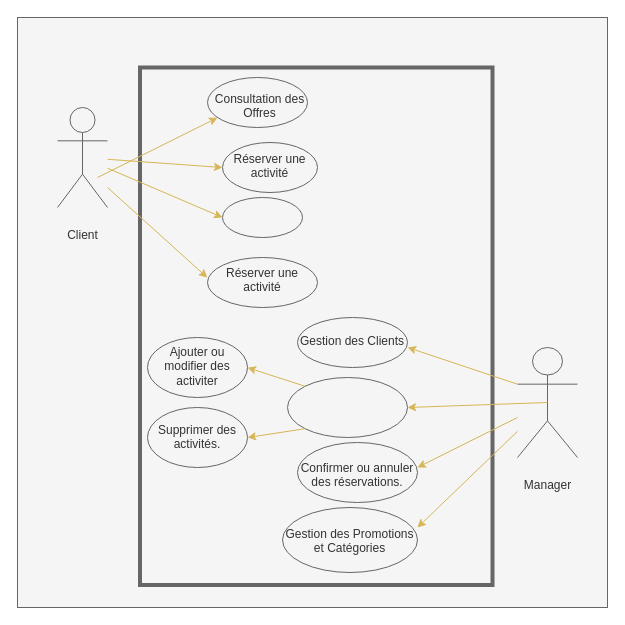
Some shapes in this 625 by 625 pixel diagram are drawn without their labels. The shapes that lost their labels are listed below. From the top down, each one's centre as x and y in pixels, then its label:
point 262,217: Suivi des Réservations
point 347,407: Gestion des Activités
